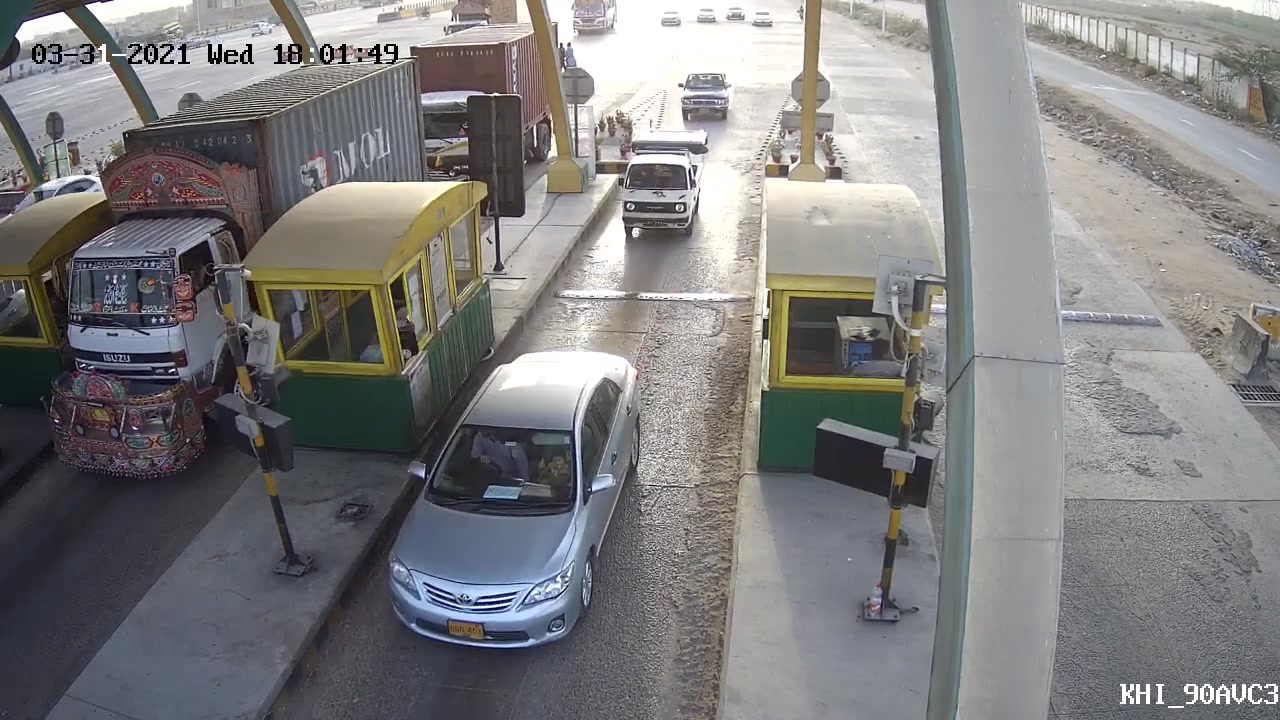F1: (382, 346, 651, 656), (612, 117, 708, 248)
